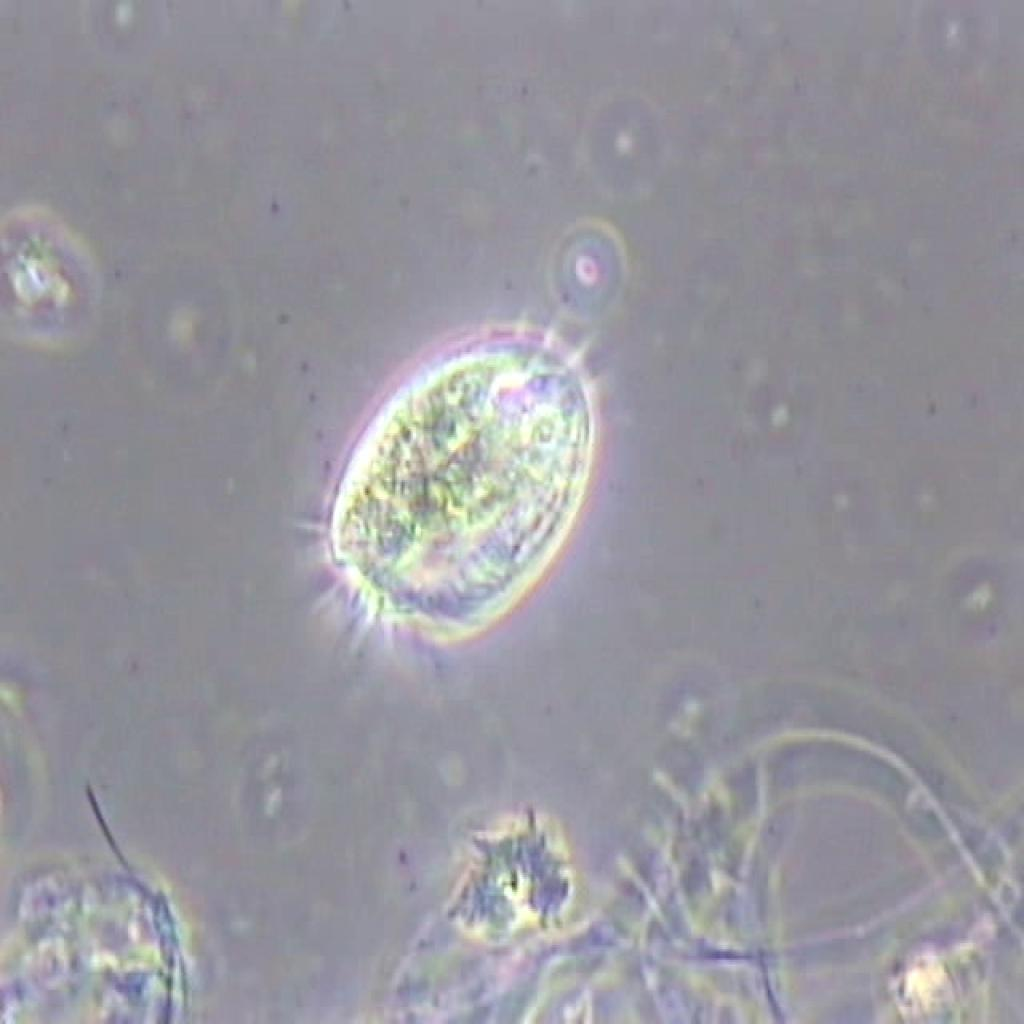Euplotes: (275, 292, 643, 676)
